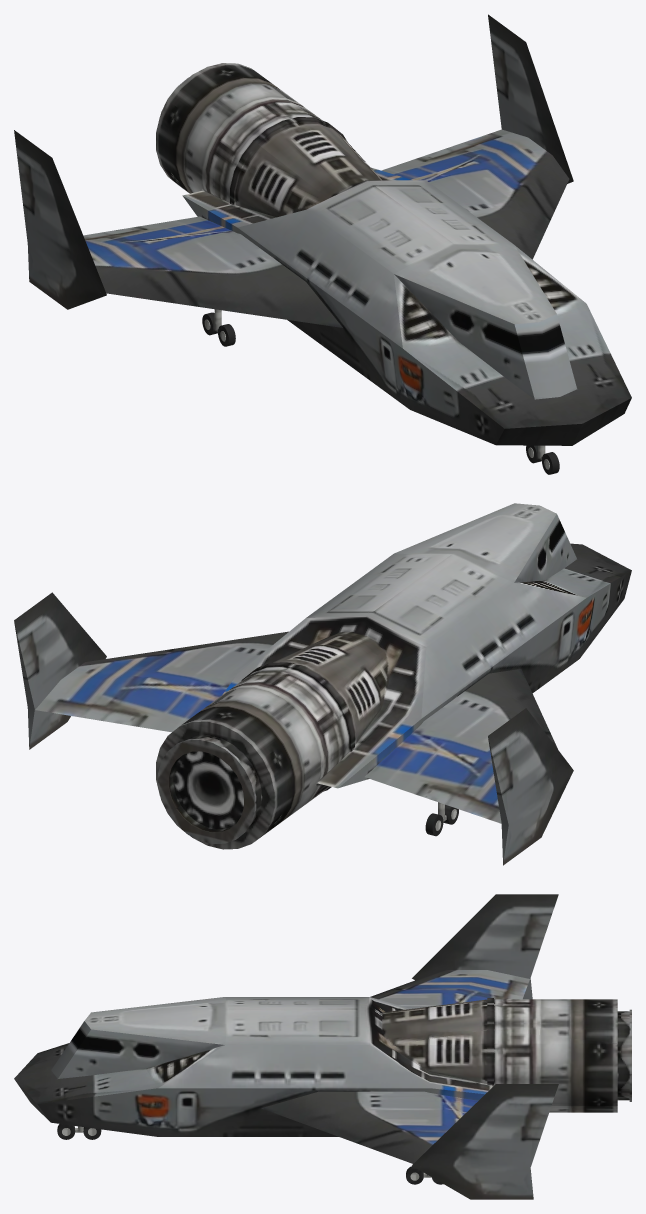
File: shuttle_cad.glb
3 views of the same model, one above another, from view 1: azimuth 30°, elevation 25°; view 2: azimuth 150°, elevation 25°; view 3: azimuth 270°, elevation 25° (orthographic). The views are drawn at different scales.
Parts seen in each view (by area): view 1: aeroshuttle; view 2: aeroshuttle; view 3: aeroshuttle.
Boxes of the visible parts, x1,y1,x2,y2 form: aeroshuttle: (14, 14, 631, 474); aeroshuttle: (14, 503, 631, 865); aeroshuttle: (14, 894, 631, 1199).
Size of the model in its own units: 20.5 by 7.41 by 27.78.
1 material, 1 textured.
